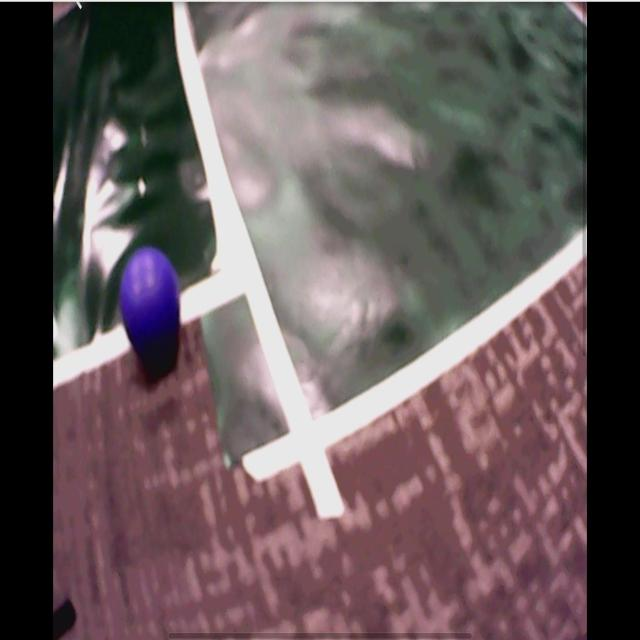ball: (121, 250, 182, 352)
